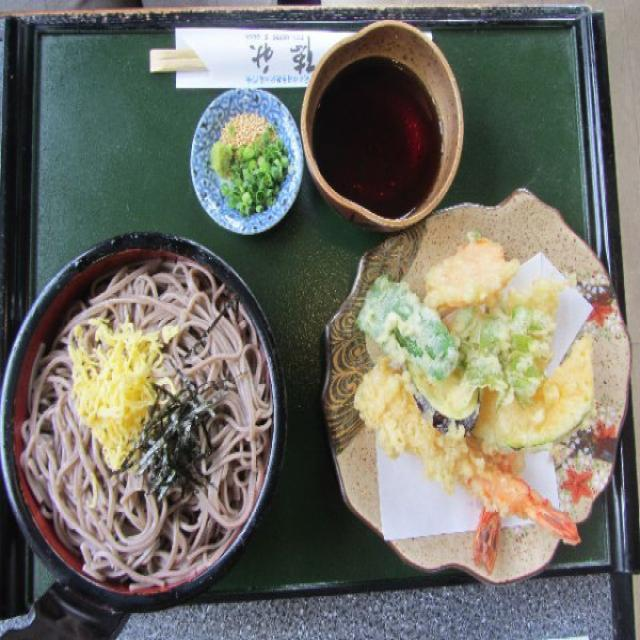面条主食: (0, 226, 278, 600)
